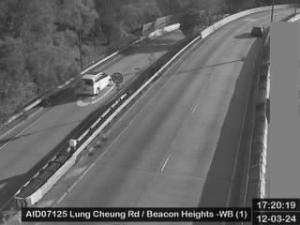vehicle: (76, 72, 112, 96), (252, 26, 266, 36)
